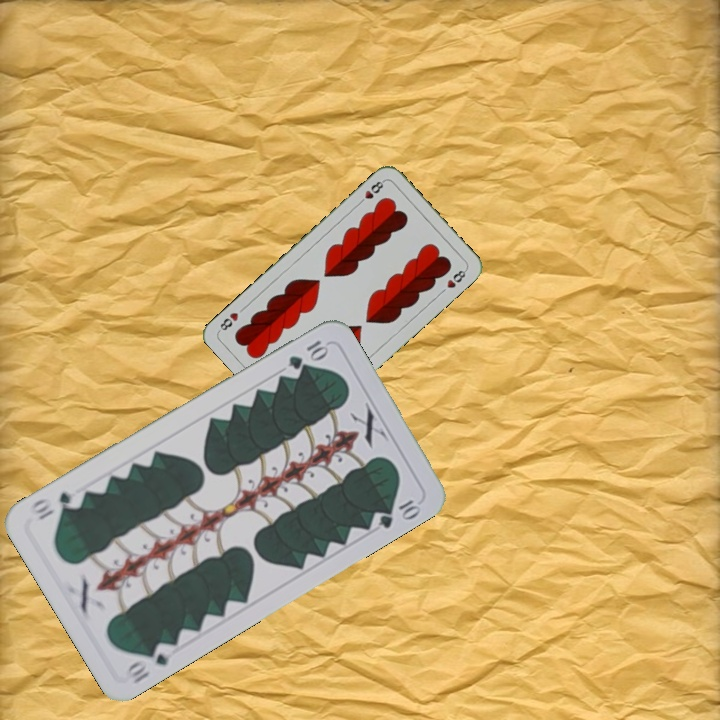G10: (123, 638, 178, 687), (284, 336, 331, 372)
H8: (354, 176, 387, 207)
